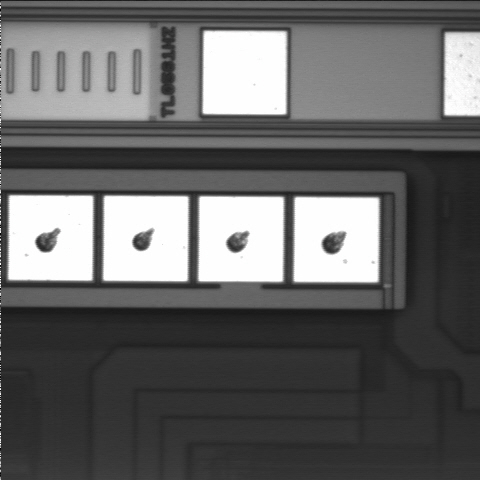pad: (8, 196, 93, 281), (103, 196, 188, 281), (199, 197, 284, 282), (294, 197, 379, 282), (203, 31, 286, 114)
